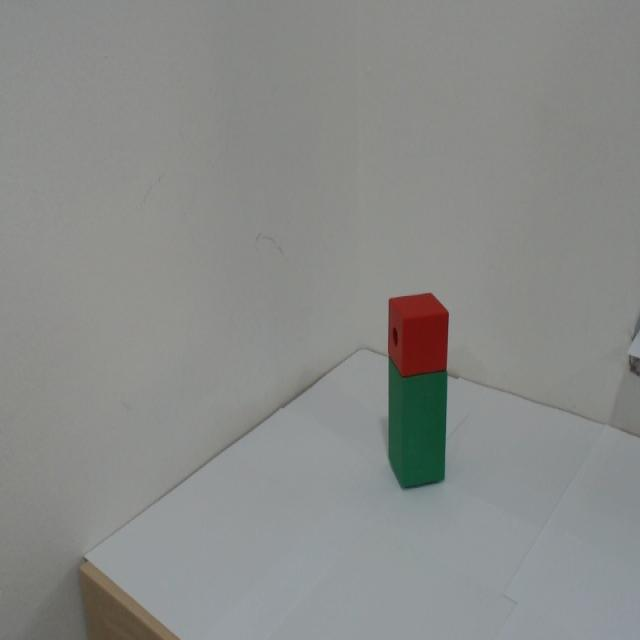cube: (387, 298, 450, 377)
